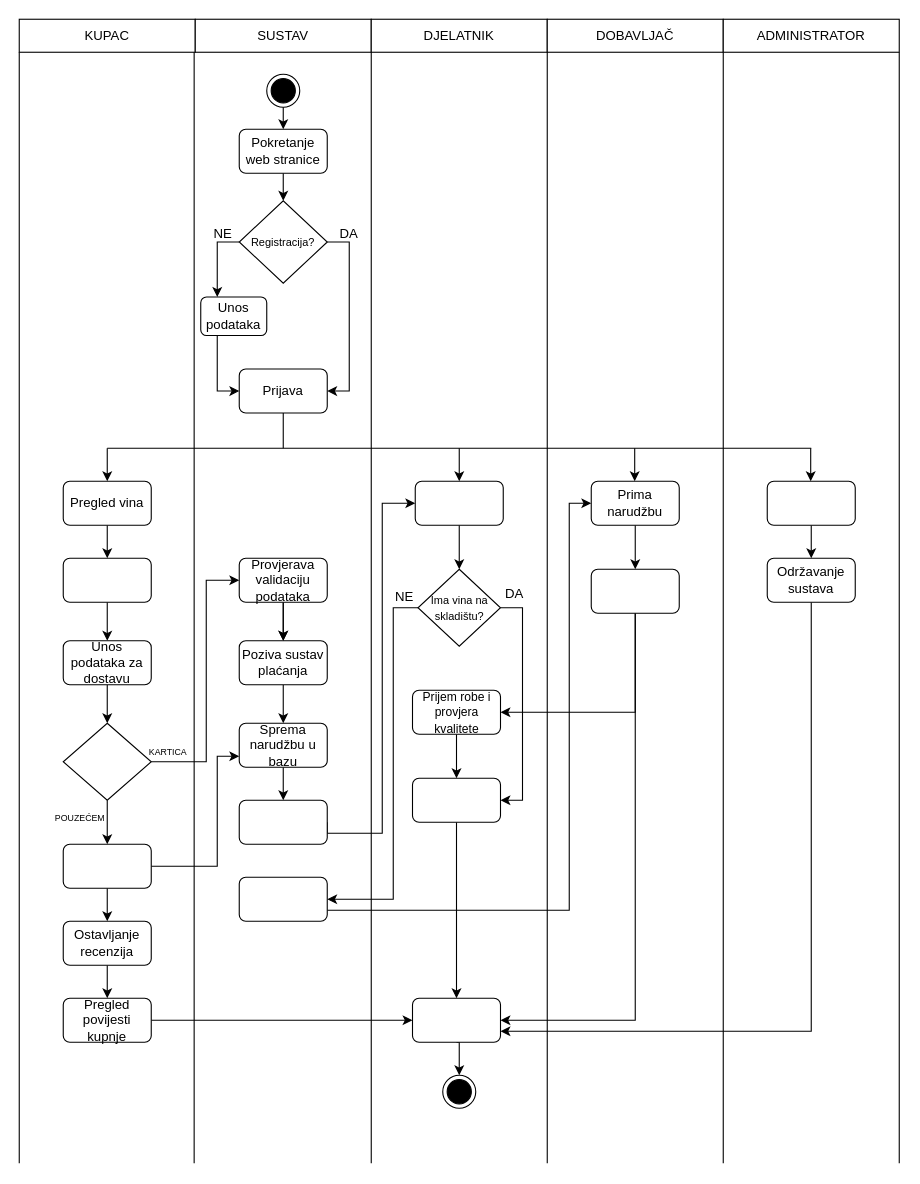
The diagram is 920 pixels wide and 1184 high, and some of its shapes have lost their labels. The shapes that lost their labels are listed below. From the top down, each one's box as (x1, y1, x2, y2) in pixels, then its label:
(414, 480, 503, 525): Pregled nove naružbe
(766, 480, 855, 525): Upravljanje korisnicima
(62, 557, 151, 602): Odabir i dodavanje vina u košaricu
(590, 568, 679, 613): Isporuka vina
(62, 722, 151, 800): Način plaćanja?
(411, 777, 501, 822): Pakiranje i slanje narudzbe
(238, 799, 327, 844): Obavještava zaposlenika o novoj narudžbi
(62, 843, 151, 888): Potvrđuje narudžbu
(238, 876, 327, 921): Automatska narudžba od dobavljača
(411, 997, 501, 1042): Odjava
